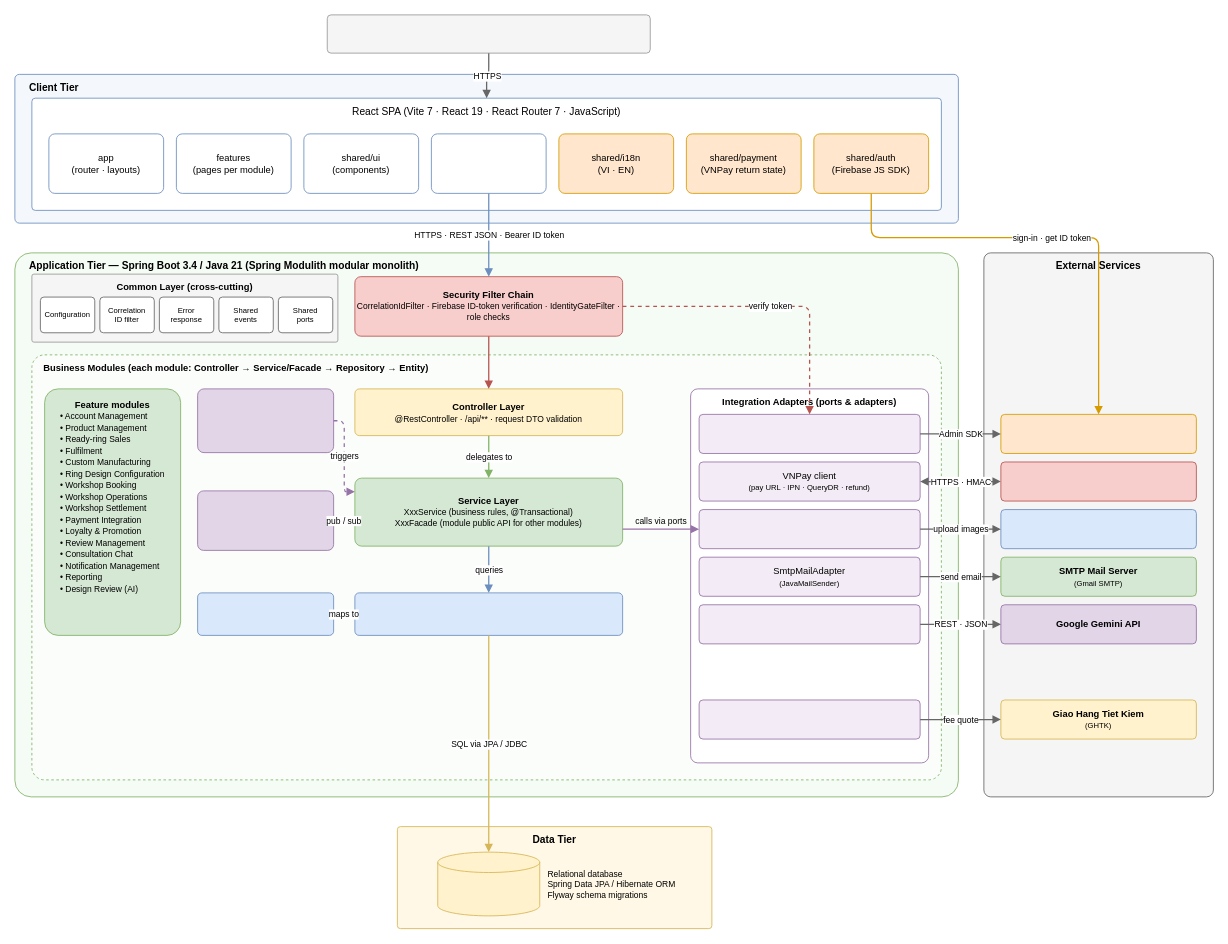
Some shapes in this 1228 by 944 pixel diagram are drawn without their labels. Here are the shapes that lost their labels. From the top down, the centre of each, then its label:
At point (488, 33): "Web Browser Guest · Member · Staff · Manager · Admin".
At point (488, 163): "shared/api (HTTP client)".
At point (265, 420): "Scheduled Jobs @Scheduled: hold expiry, QueryDR recovery, data retention".
At point (809, 433): "Firebase Admin SDK (TokenVerificationService)".
At point (1098, 433): "Firebase Authentication".
At point (1098, 481): "VNPay Payment Gateway".
At point (265, 520): "Domain Events Spring Modulith event registry".
At point (809, 529): "Cloudinary storage adapters".
At point (1098, 529): "Cloudinary (image storage / CDN)".
At point (265, 613): "Entity Layer (JPA @Entity)".
At point (488, 613): "Repository Layer Spring Data JPA (dao)".
At point (809, 624): "GeminiRestClientAdapter".
At point (809, 719): "GHTK fee client (shipping fee quote)".
At point (488, 883): "MySQL".
